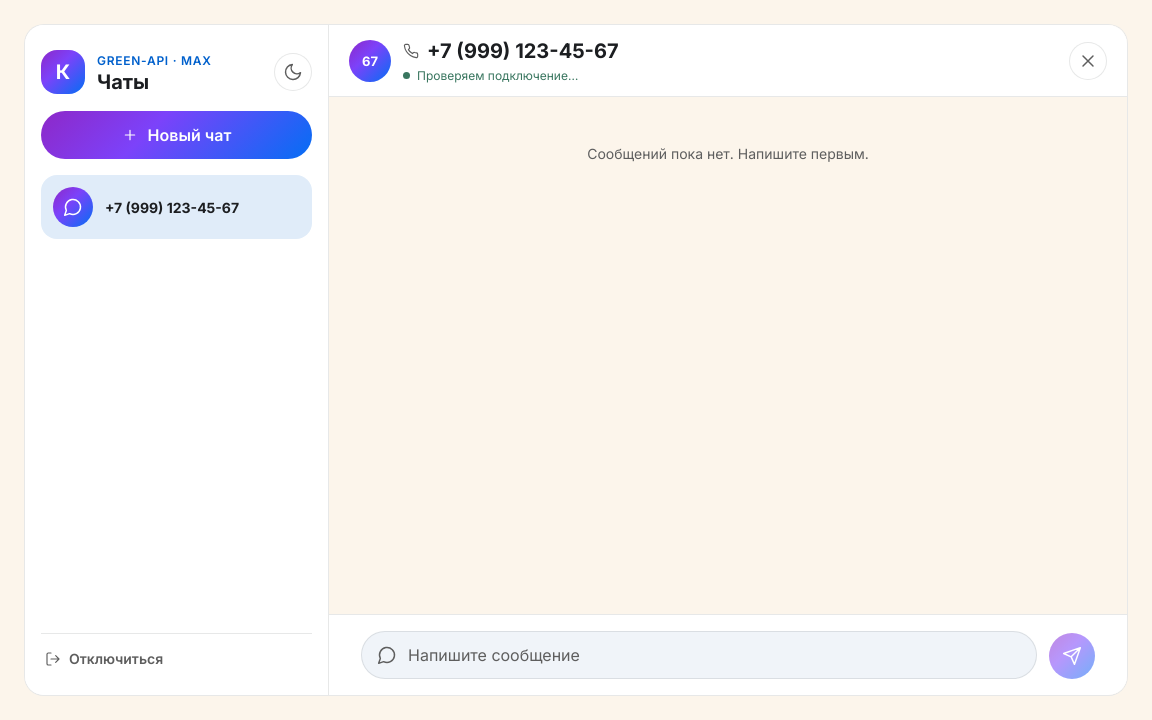
Test: keeps a delivered message when opening existing chat finishes afterward
The width and height of the screenshot is (1152, 720).
Type "Сообщение A" into the text box labelled "сообщение".
click(699, 655); type("Сообщение A")  # box x1=361 y1=631 x2=1037 y2=679
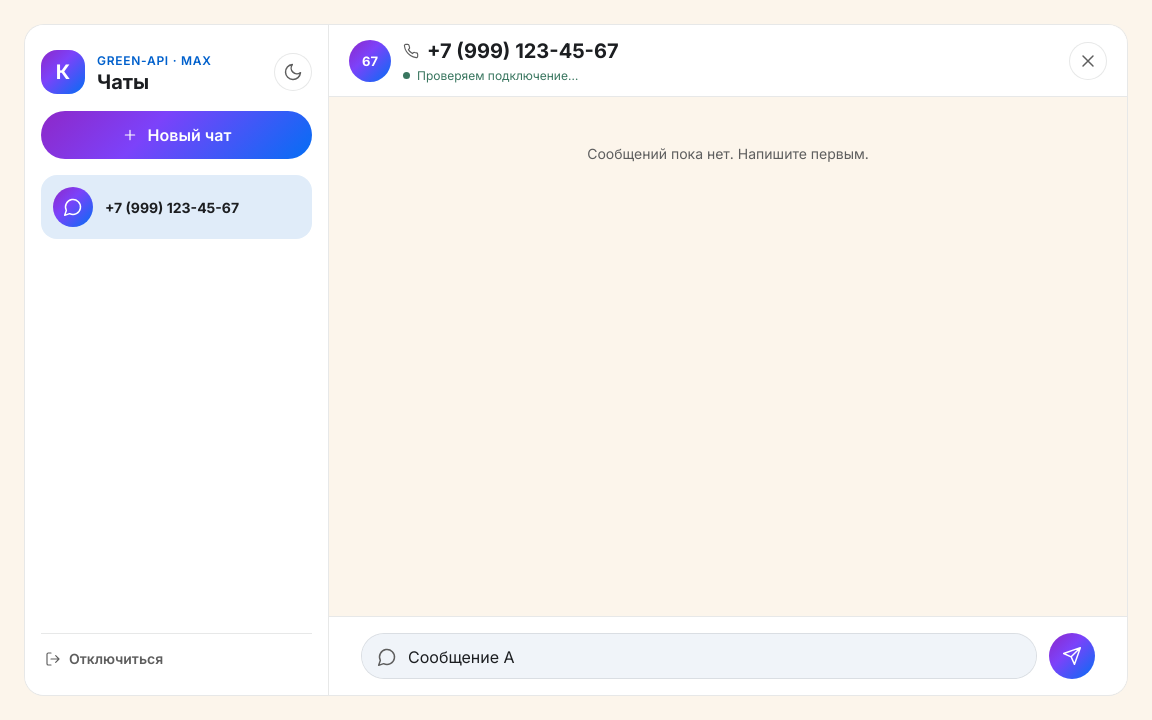
Click the button named "Отправить".
click(1072, 656)  # box x1=1049 y1=633 x2=1095 y2=679
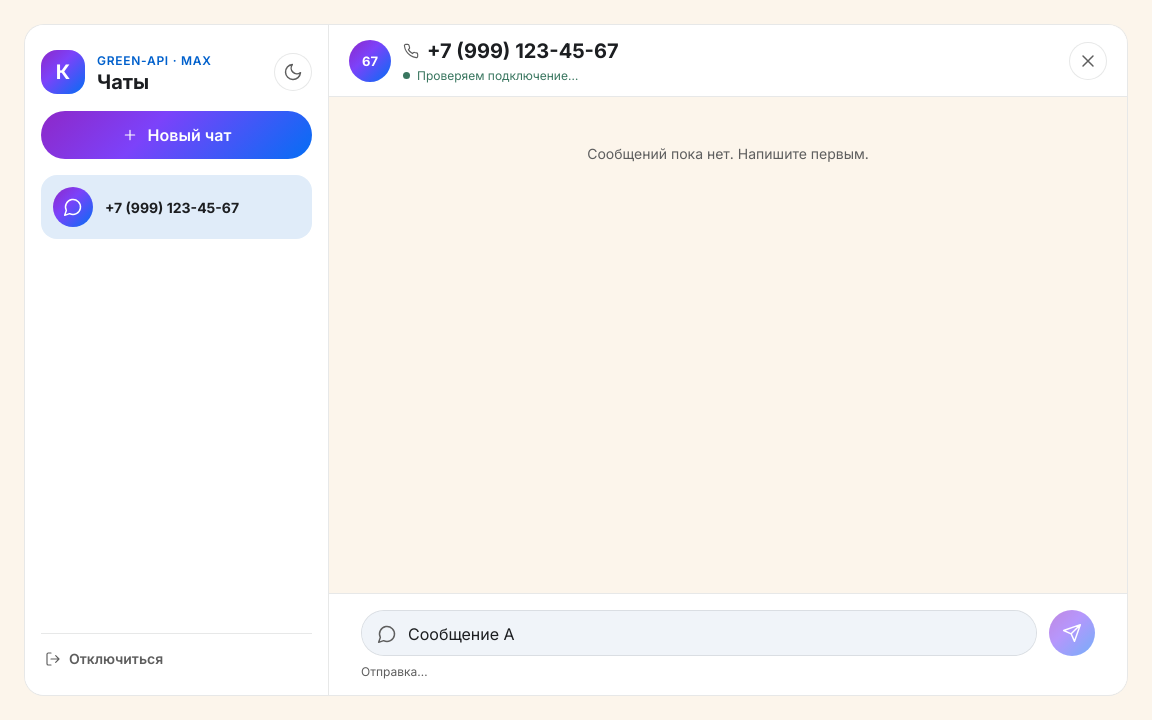
Click the button "Новый чат".
click(176, 135)  # box x1=41 y1=111 x2=312 y2=159
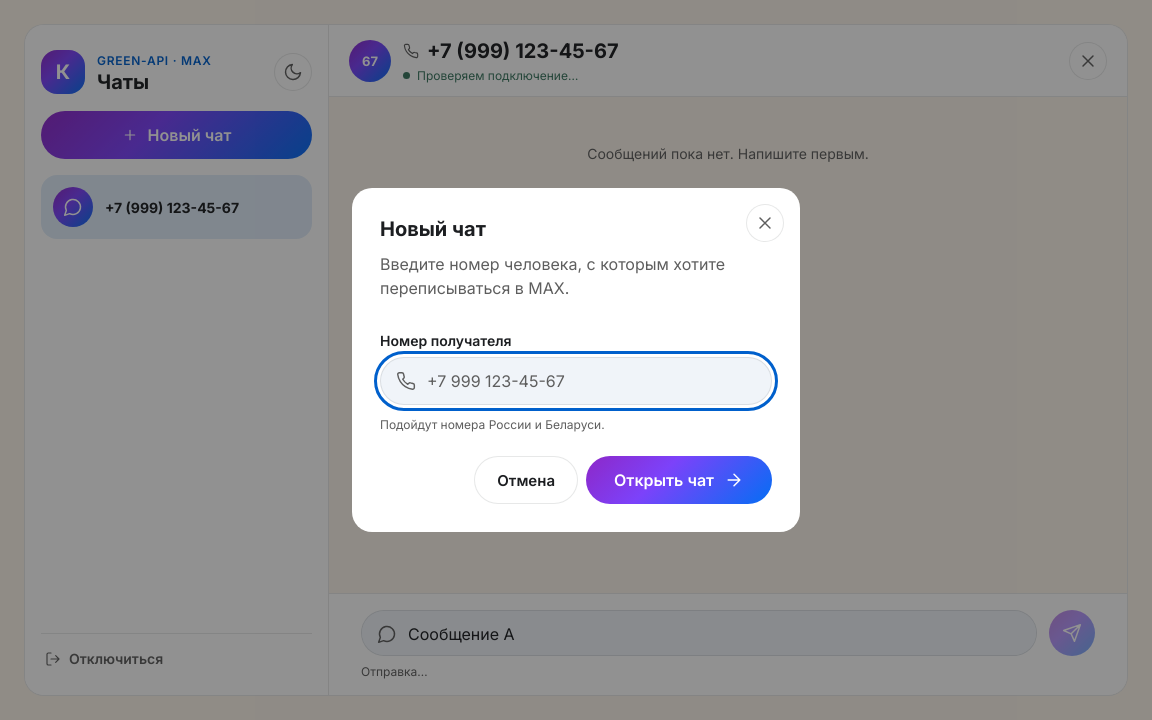
Type "+7 (999) 123-45-67" into the field labelled "Номер получателя".
click(576, 381); type("+7 (999) 123-45-67")  # box x1=380 y1=357 x2=772 y2=405
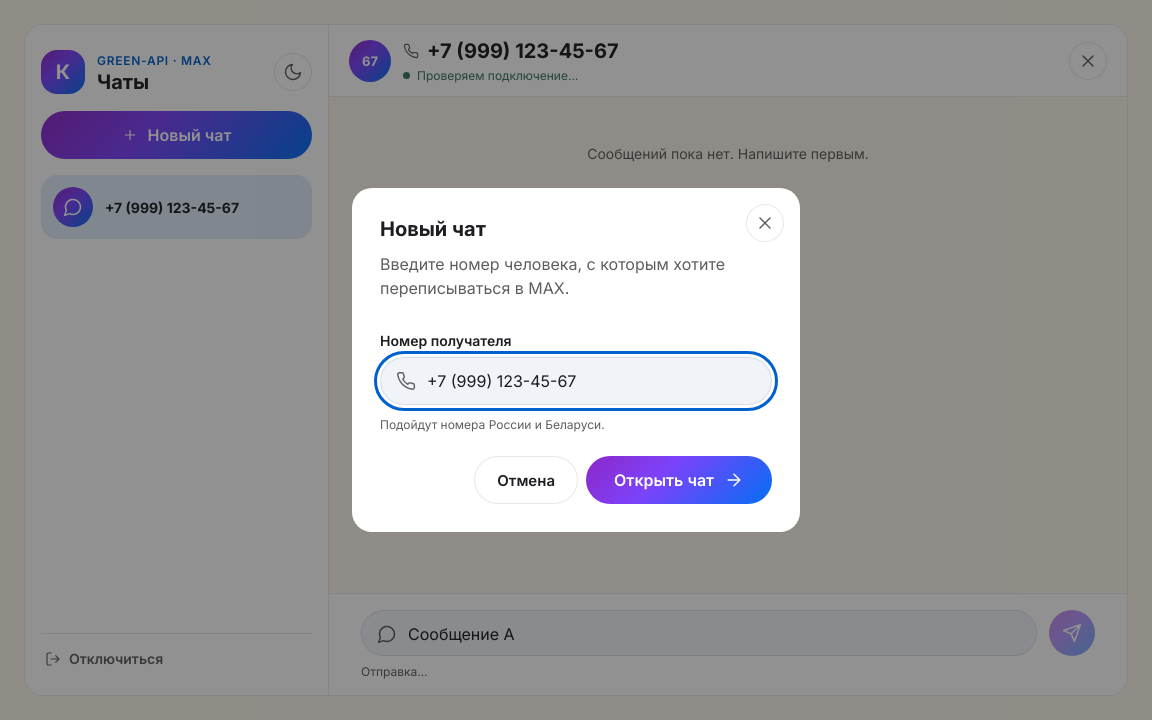
Click the button "Открыть чат".
click(679, 480)  # box x1=586 y1=456 x2=772 y2=504
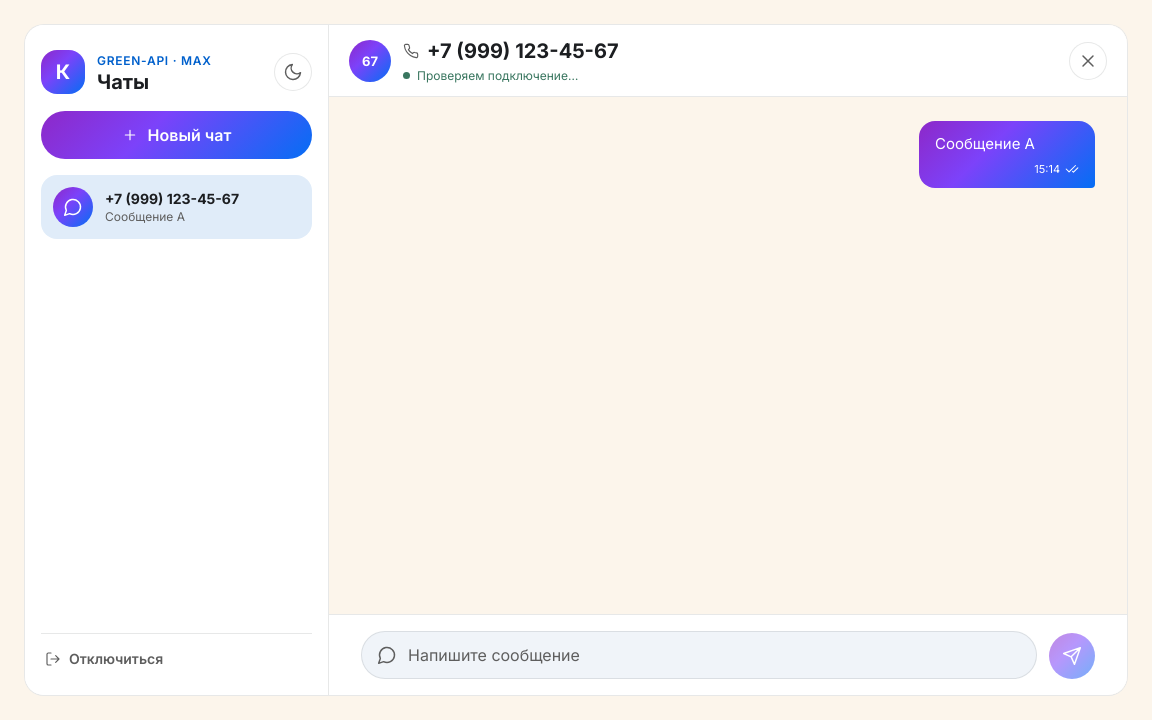
expect the heading "+7 (999) 123-45-67" is shown: met, box x1=403 y1=39 x2=619 y2=63
expect the 1st text "Сообщение A" is shown: met, box x1=935 y1=134 x2=1035 y2=153
